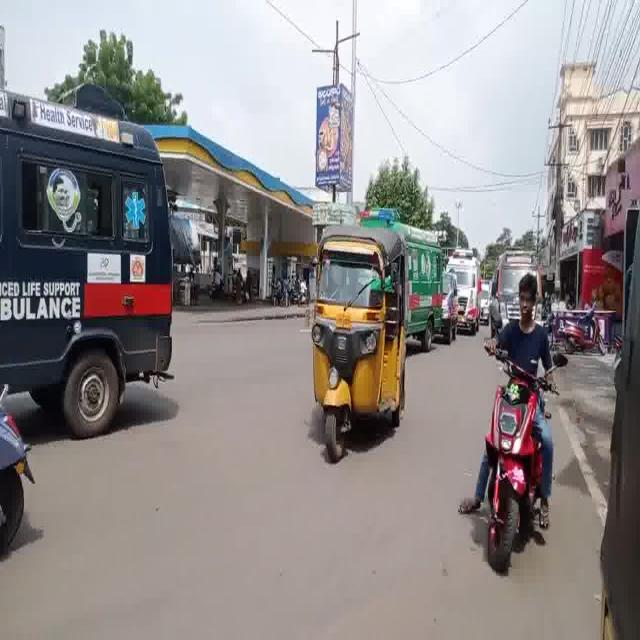ambulance: (0, 97, 182, 420), (354, 201, 453, 358), (489, 246, 543, 319), (455, 246, 481, 331)
